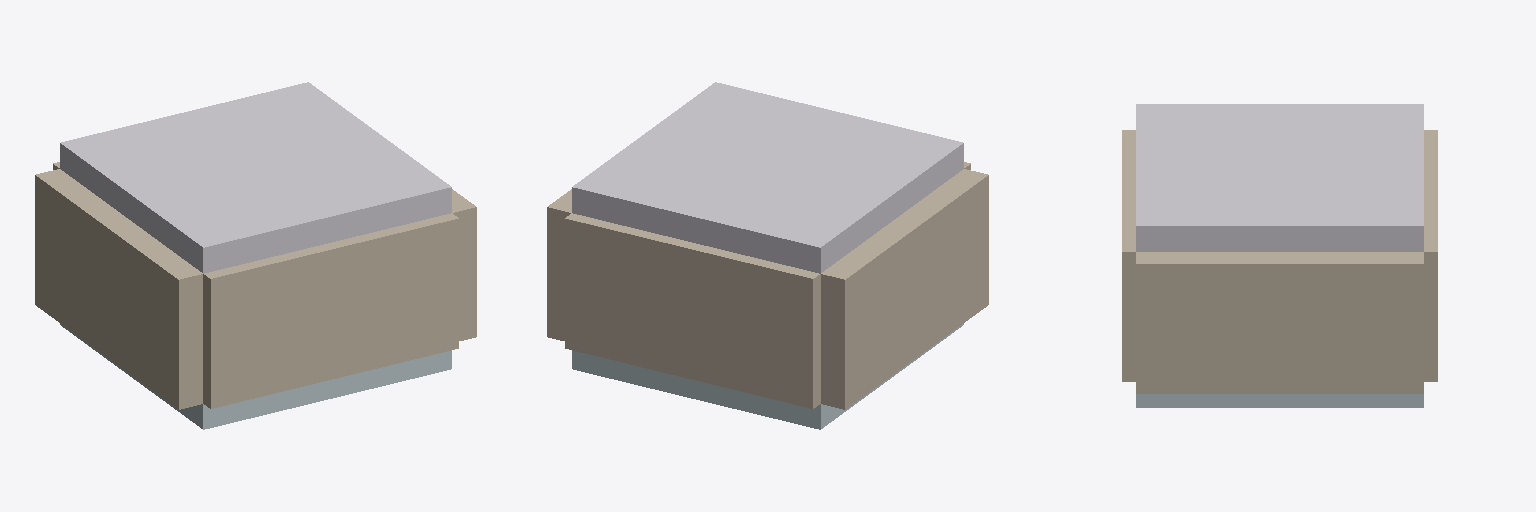
The picture shows the model from 3 angles: view 1: azimuth 30°, elevation 25°; view 2: azimuth 150°, elevation 25°; view 3: azimuth 270°, elevation 25°; orthographic projection.
Parts seen in each view (by area): view 1: Cube.005_Cube.001, Cube.004_Cube.011, Cube.002_Cube.006, Cube, Cube.001_Cube.003; view 2: Cube.005_Cube.001, Cube.003_Cube.010, Cube.002_Cube.006, Cube, Cube.001_Cube.003; view 3: Cube.005_Cube.001, Cube.001_Cube.003, Cube, Cube.004_Cube.011, Cube.003_Cube.010.
Boxes of the visible parts, box(x1,y1,x2,y2) form: Cube.005_Cube.001: box(60, 82, 451, 273); Cube.004_Cube.011: box(203, 213, 458, 408); Cube.002_Cube.006: box(35, 169, 202, 409); Cube: box(60, 324, 451, 429); Cube.001_Cube.003: box(452, 189, 476, 340); Cube.005_Cube.001: box(572, 82, 963, 273); Cube.003_Cube.010: box(565, 213, 820, 408); Cube.002_Cube.006: box(821, 169, 988, 409); Cube: box(572, 324, 963, 429); Cube.001_Cube.003: box(547, 189, 571, 340); Cube.005_Cube.001: box(1136, 104, 1423, 251); Cube.001_Cube.003: box(1136, 252, 1423, 393); Cube: box(1136, 394, 1423, 407); Cube.004_Cube.011: box(1122, 130, 1135, 381); Cube.003_Cube.010: box(1424, 130, 1437, 381).
Size of the model in its own units: 24 by 14 by 22.
Materials: 6 (3 with a texture image).